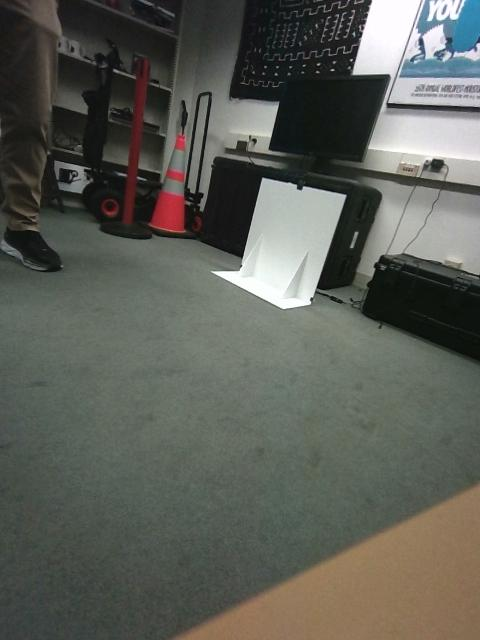block: (4, 311, 76, 363)
